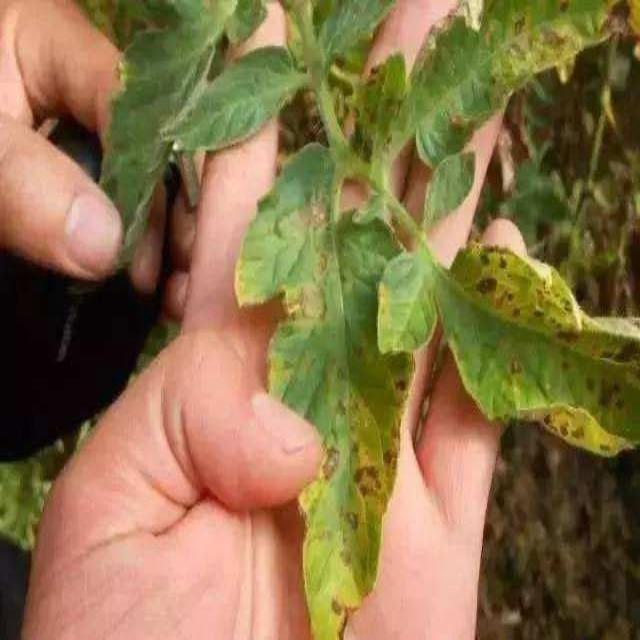Early_blight: (322, 580, 377, 640), (468, 241, 509, 306), (277, 278, 329, 326), (579, 374, 626, 415), (593, 1, 638, 39), (598, 328, 640, 367), (538, 410, 586, 442), (351, 454, 382, 500), (315, 438, 341, 489), (383, 419, 399, 501), (545, 314, 582, 346), (389, 374, 411, 399)
